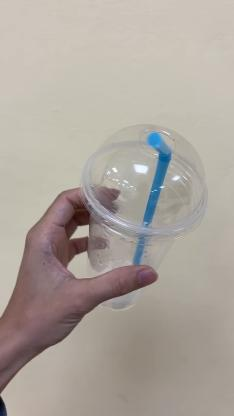Plastic Cup: (78, 122, 210, 312)
